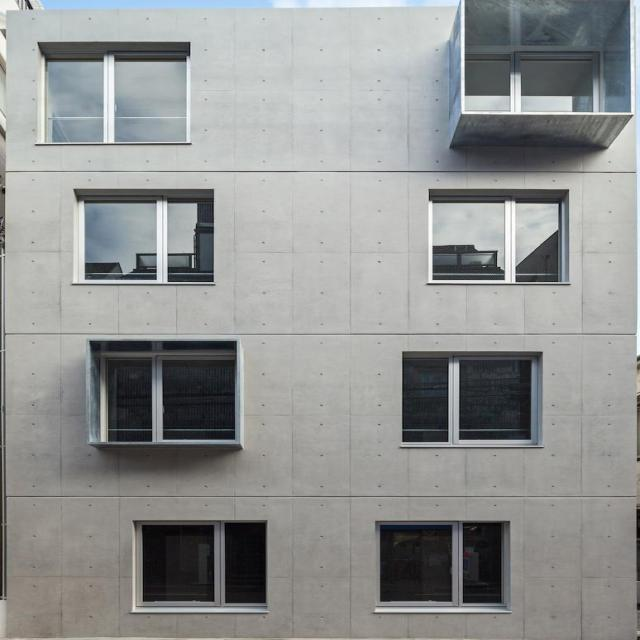window: (41, 55, 186, 145), (97, 357, 237, 445), (399, 357, 537, 446), (73, 200, 210, 286), (137, 523, 263, 611), (428, 200, 555, 284), (369, 526, 499, 608), (461, 53, 599, 115)
